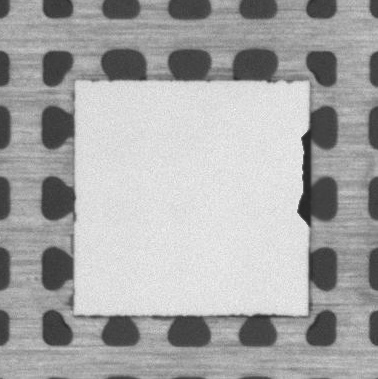DIE_BROKEN: (295, 127, 313, 227)
